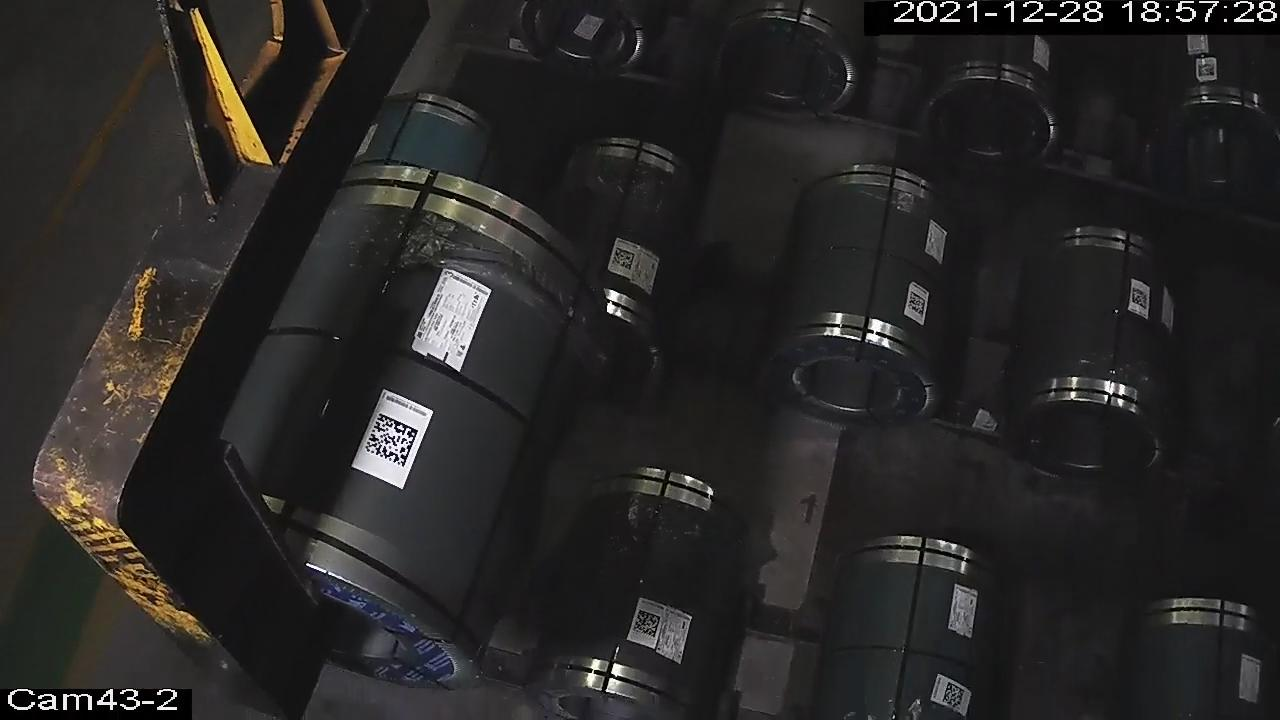data matrix: (363, 411, 421, 470), (631, 608, 663, 640), (942, 681, 968, 711), (611, 246, 637, 272), (906, 290, 928, 318), (1131, 286, 1150, 311), (1197, 62, 1218, 80)
